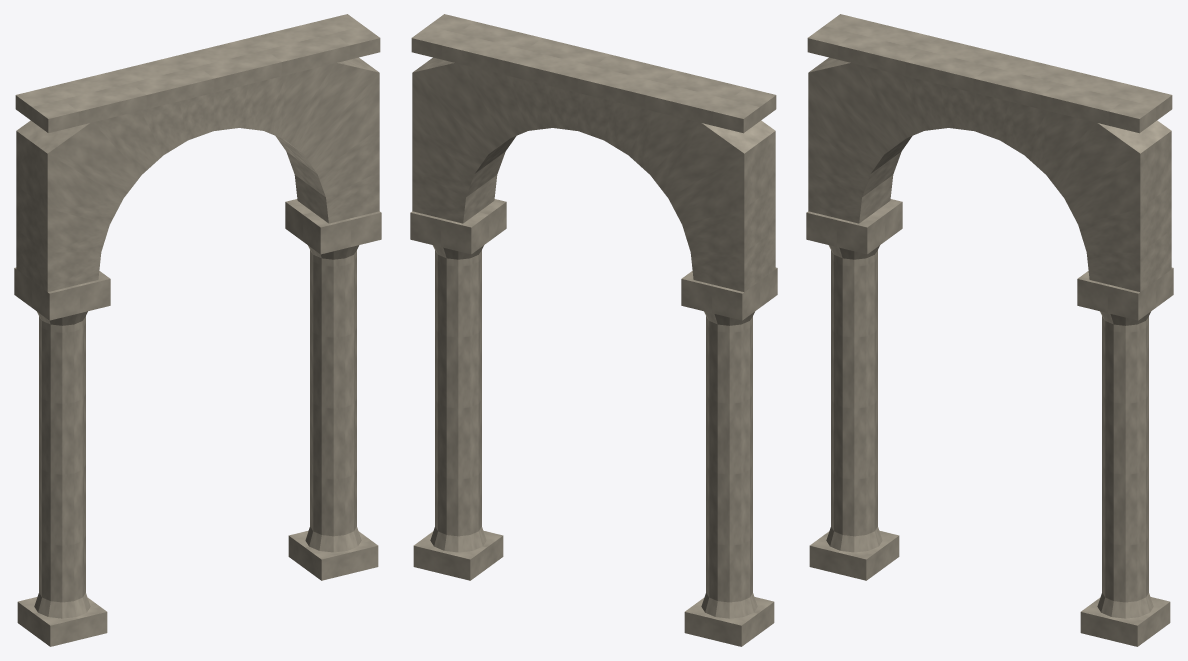
File: Arch_Stone_1.gltf
The picture shows the model from 3 angles, left to right: view 1: azimuth 30°, elevation 25°; view 2: azimuth 150°, elevation 25°; view 3: azimuth 330°, elevation 25°; orthographic projection.
Visible parts, largest first — view 1: Arch_Stone_1; view 2: Arch_Stone_1; view 3: Arch_Stone_1.
Part boxes in pixels (x1,y1,x2,y2): Arch_Stone_1: (14,14,381,646); Arch_Stone_1: (410,14,777,646); Arch_Stone_1: (806,14,1173,646).
Size of the model in its own units: 4.9 by 7.45 by 0.9.
1 material, 1 textured.
